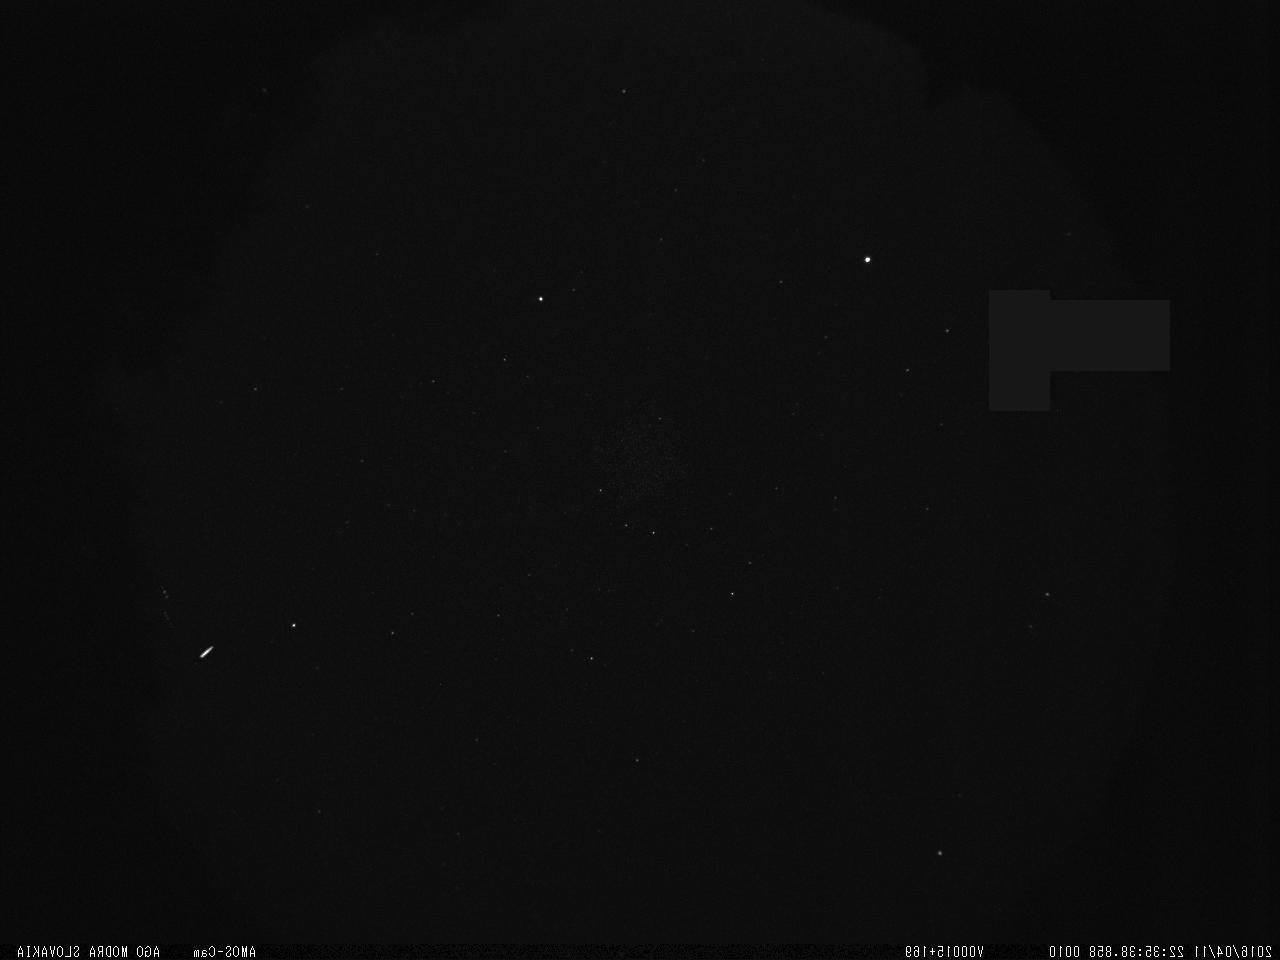meteor: (190, 635, 221, 669)
